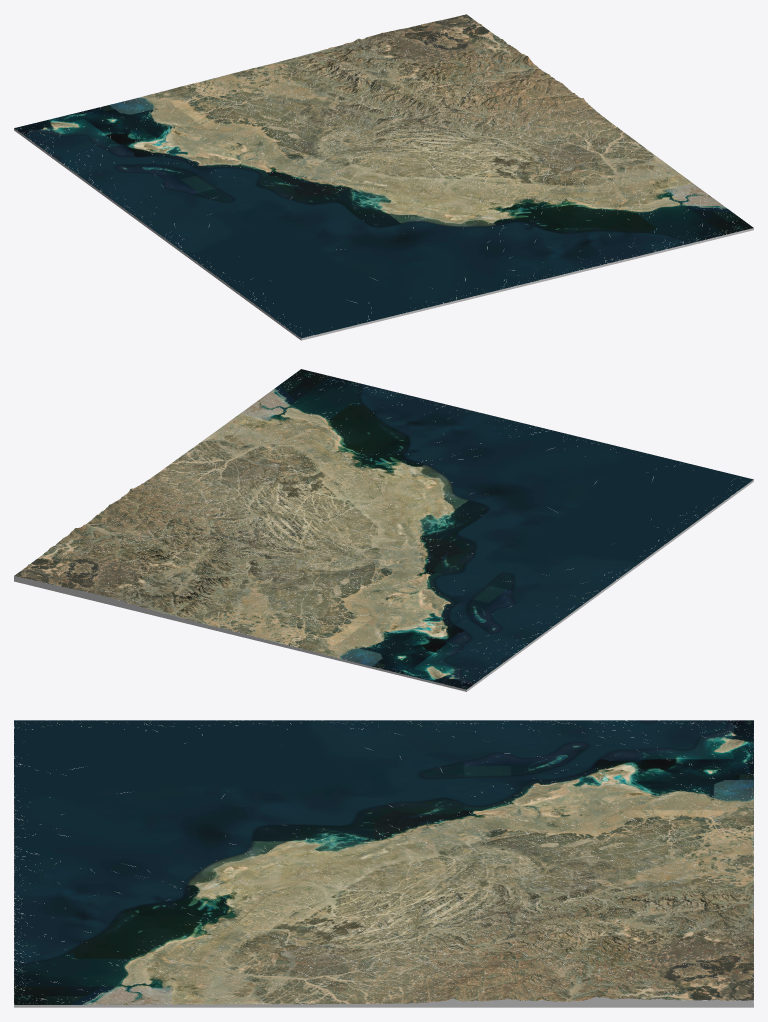
The model's file is mecca_terrain.glb.
3 renders of one model, top to bottom at view 1: azimuth 30°, elevation 25°; view 2: azimuth 150°, elevation 25°; view 3: azimuth 270°, elevation 25°, orthographic. The views are drawn at different scales.
Visible parts, largest first — view 1: geo1_terrain_mat_0, geo1_default_material_0; view 2: geo1_terrain_mat_0, geo1_default_material_0; view 3: geo1_terrain_mat_0, geo1_default_material_0.
Boxes of the visible parts, x1,y1,x2,y2 form: geo1_terrain_mat_0: (14, 14, 753, 338); geo1_default_material_0: (14, 16, 753, 340); geo1_terrain_mat_0: (14, 369, 753, 689); geo1_default_material_0: (14, 373, 753, 691); geo1_terrain_mat_0: (14, 720, 753, 1004); geo1_default_material_0: (14, 720, 753, 1007).
Bounding box in the file's own units: 1114 × 24.3 × 1224.
2 materials, 1 textured.
